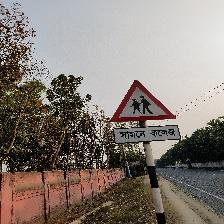College-in-front: (86, 61, 191, 159)
